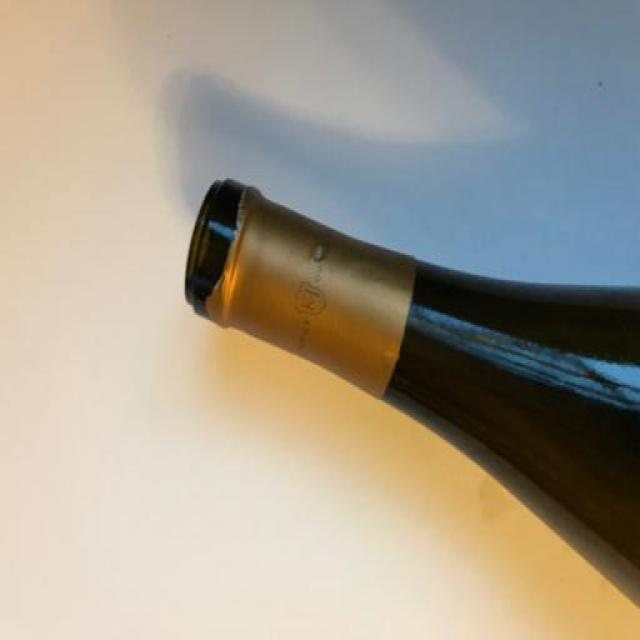glass: (61, 117, 640, 634)
